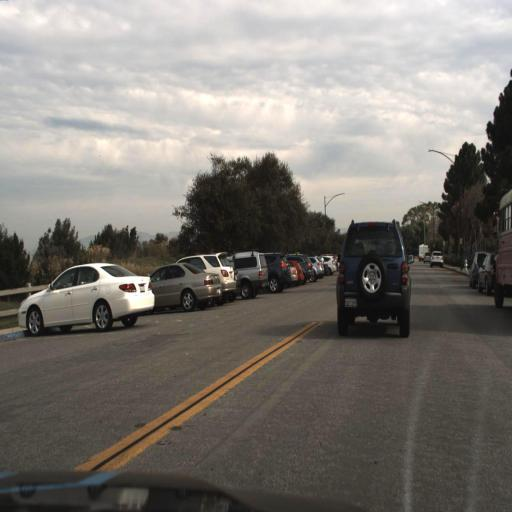car: (334, 212, 420, 346), (19, 262, 161, 331), (150, 260, 221, 304), (232, 246, 269, 295), (202, 251, 239, 297), (213, 251, 238, 307), (475, 248, 496, 298), (268, 250, 290, 292), (465, 244, 481, 291), (430, 247, 448, 273)
truck: (492, 184, 511, 310)
